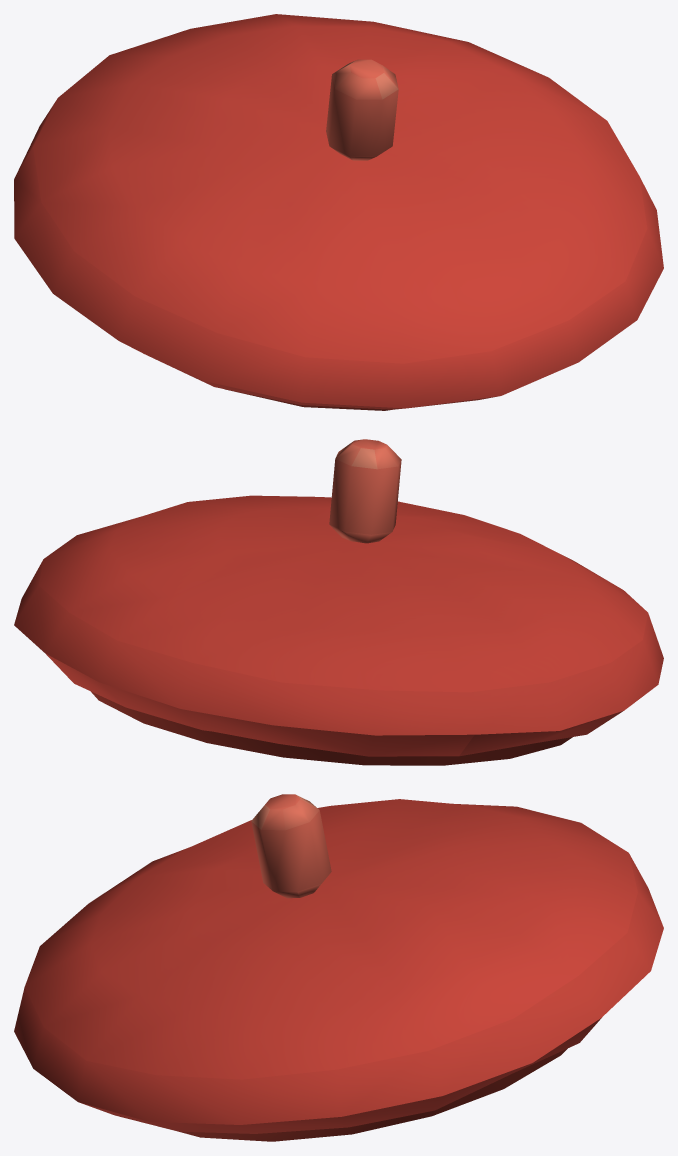
The model's file is SM_Acc_DirectorBeret.fbx.
The picture shows the model from 3 angles, top to bottom: view 1: azimuth 30°, elevation 25°; view 2: azimuth 150°, elevation 25°; view 3: azimuth 270°, elevation 25°; orthographic projection.
Visible parts, largest first — view 1: SM_Acc_DirectorBeret; view 2: SM_Acc_DirectorBeret; view 3: SM_Acc_DirectorBeret.
Part boxes in pixels (x1,y1,x2,y2): SM_Acc_DirectorBeret: (14, 14, 663, 410); SM_Acc_DirectorBeret: (14, 439, 663, 765); SM_Acc_DirectorBeret: (14, 794, 663, 1141).
Bounding box in the file's own units: 34.41 × 15.39 × 34.08.
